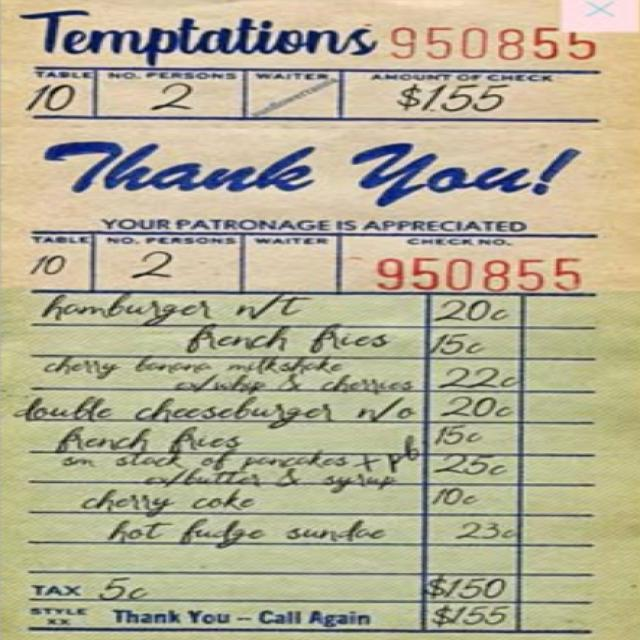items: (8, 293, 571, 557)
shop: (8, 7, 391, 70)
tax: (19, 567, 543, 603)
tot: (16, 602, 558, 636)
